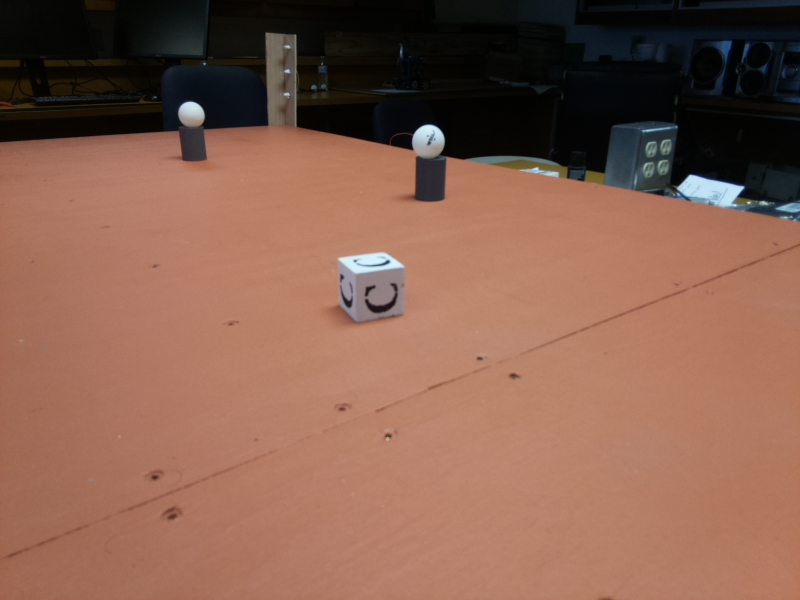blockC: (338, 248, 405, 324)
corner: (264, 33, 300, 133)
obstacle: (412, 121, 448, 205), (177, 97, 207, 163)
